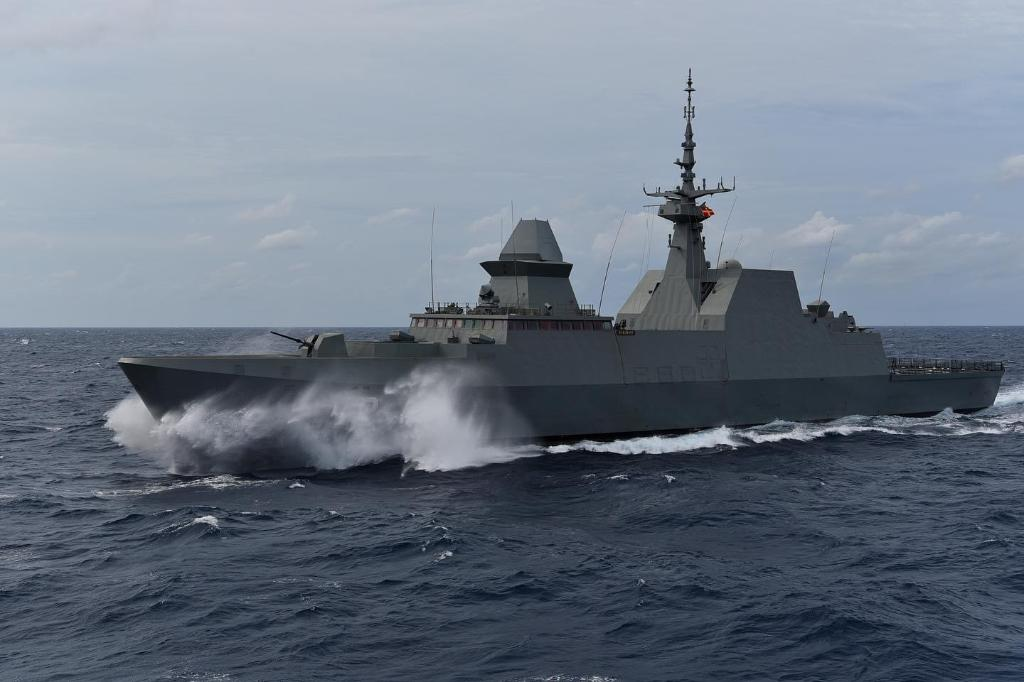Warship: (112, 72, 1012, 482)
